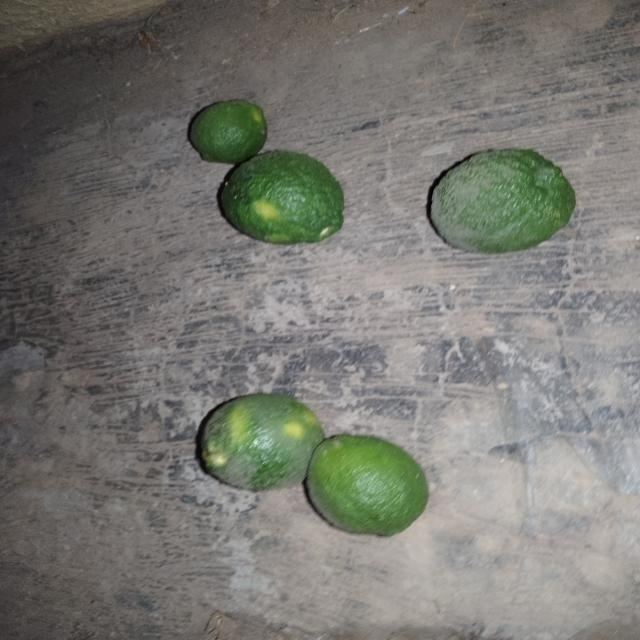agrume: (416, 135, 587, 269), (297, 426, 441, 554), (191, 391, 332, 509), (211, 146, 359, 257)
